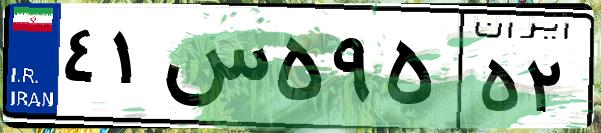1: (110, 28, 158, 98)
2: (525, 38, 570, 115)
4: (57, 26, 110, 100)
5: (270, 28, 330, 110), (385, 28, 445, 110), (475, 38, 525, 113)
9: (330, 28, 385, 110)
س: (158, 20, 270, 120)
